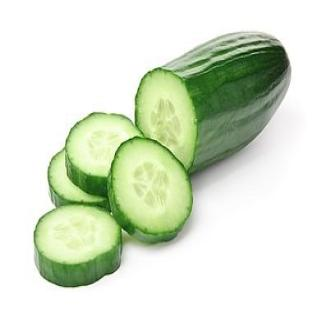Cucumber: (136, 32, 290, 171), (108, 138, 192, 242), (34, 205, 121, 286), (65, 114, 142, 196), (48, 150, 110, 210)
